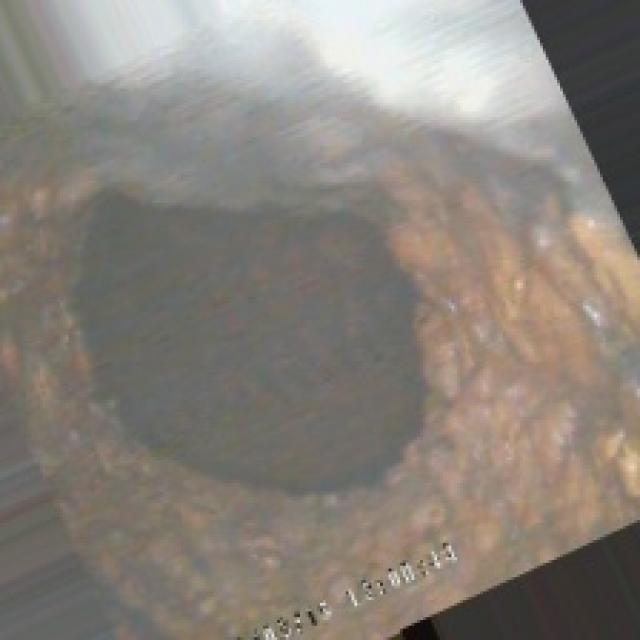encrustation: (49, 160, 434, 497)
